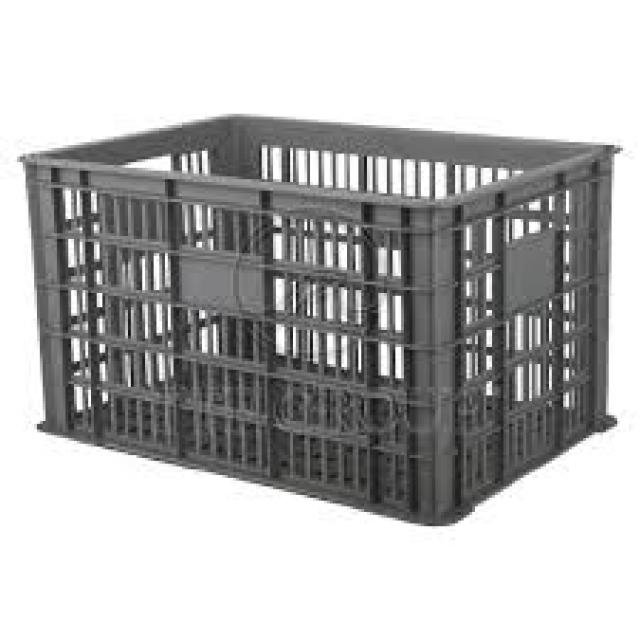basket: (0, 102, 629, 536)
